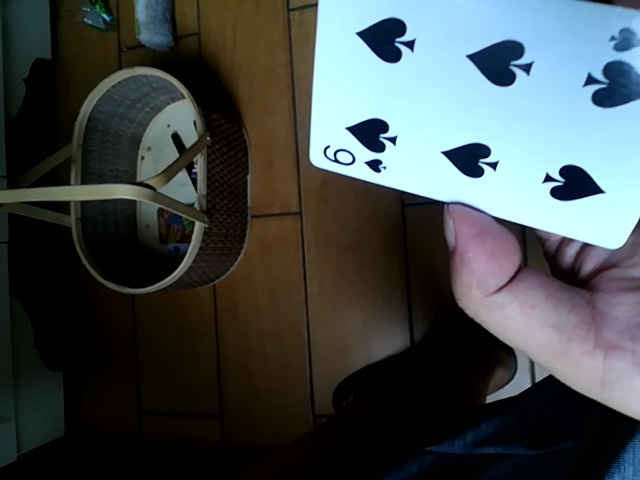ht 6: (305, 0, 640, 249)
